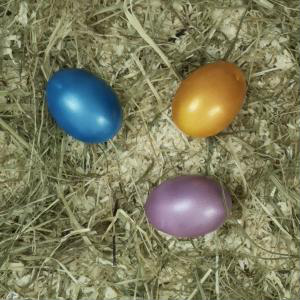egg: (45, 68, 124, 144), (172, 61, 247, 138), (144, 175, 233, 237)
